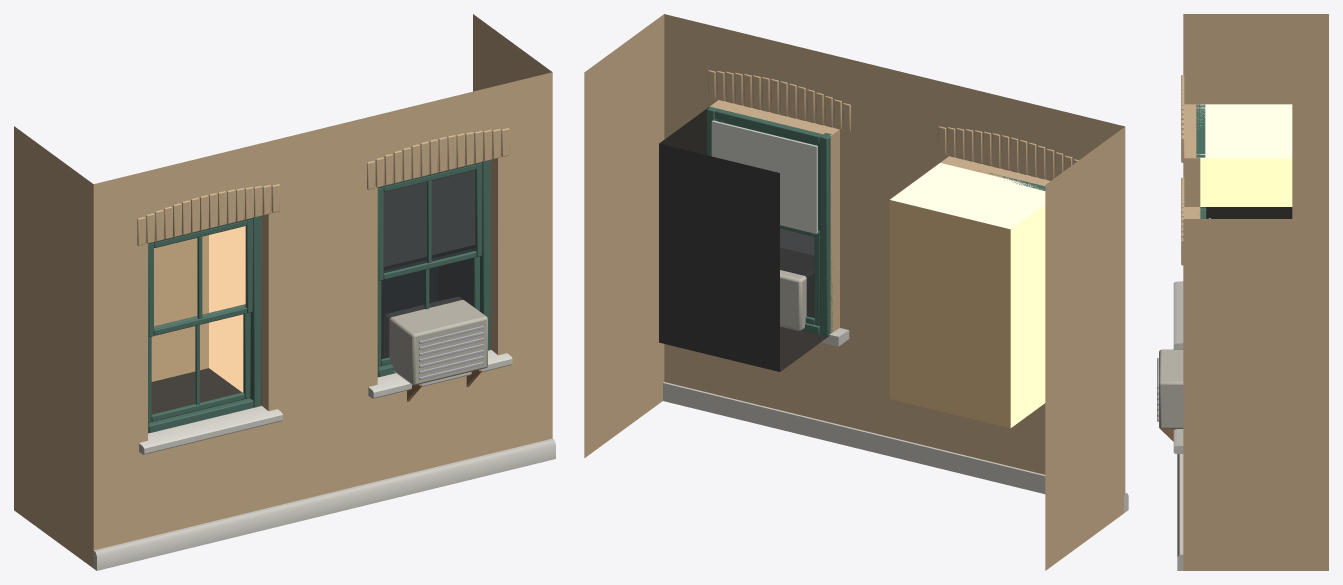
The model's file is upper_4b.glb.
3 renders of one model, left to right at view 1: azimuth 30°, elevation 25°; view 2: azimuth 150°, elevation 25°; view 3: azimuth 270°, elevation 25°, orthographic. The views are drawn at different scales.
Visible parts, largest first — view 1: upper_4b; view 2: upper_4b; view 3: upper_4b.
Boxes of the visible parts, x1=… form: upper_4b: x1=14, y1=14, x2=555, y2=570; upper_4b: x1=584, y1=14, x2=1128, y2=570; upper_4b: x1=1157, y1=14, x2=1328, y2=570.
Size of the model in its own units: 4 by 3.2 by 1.42.
